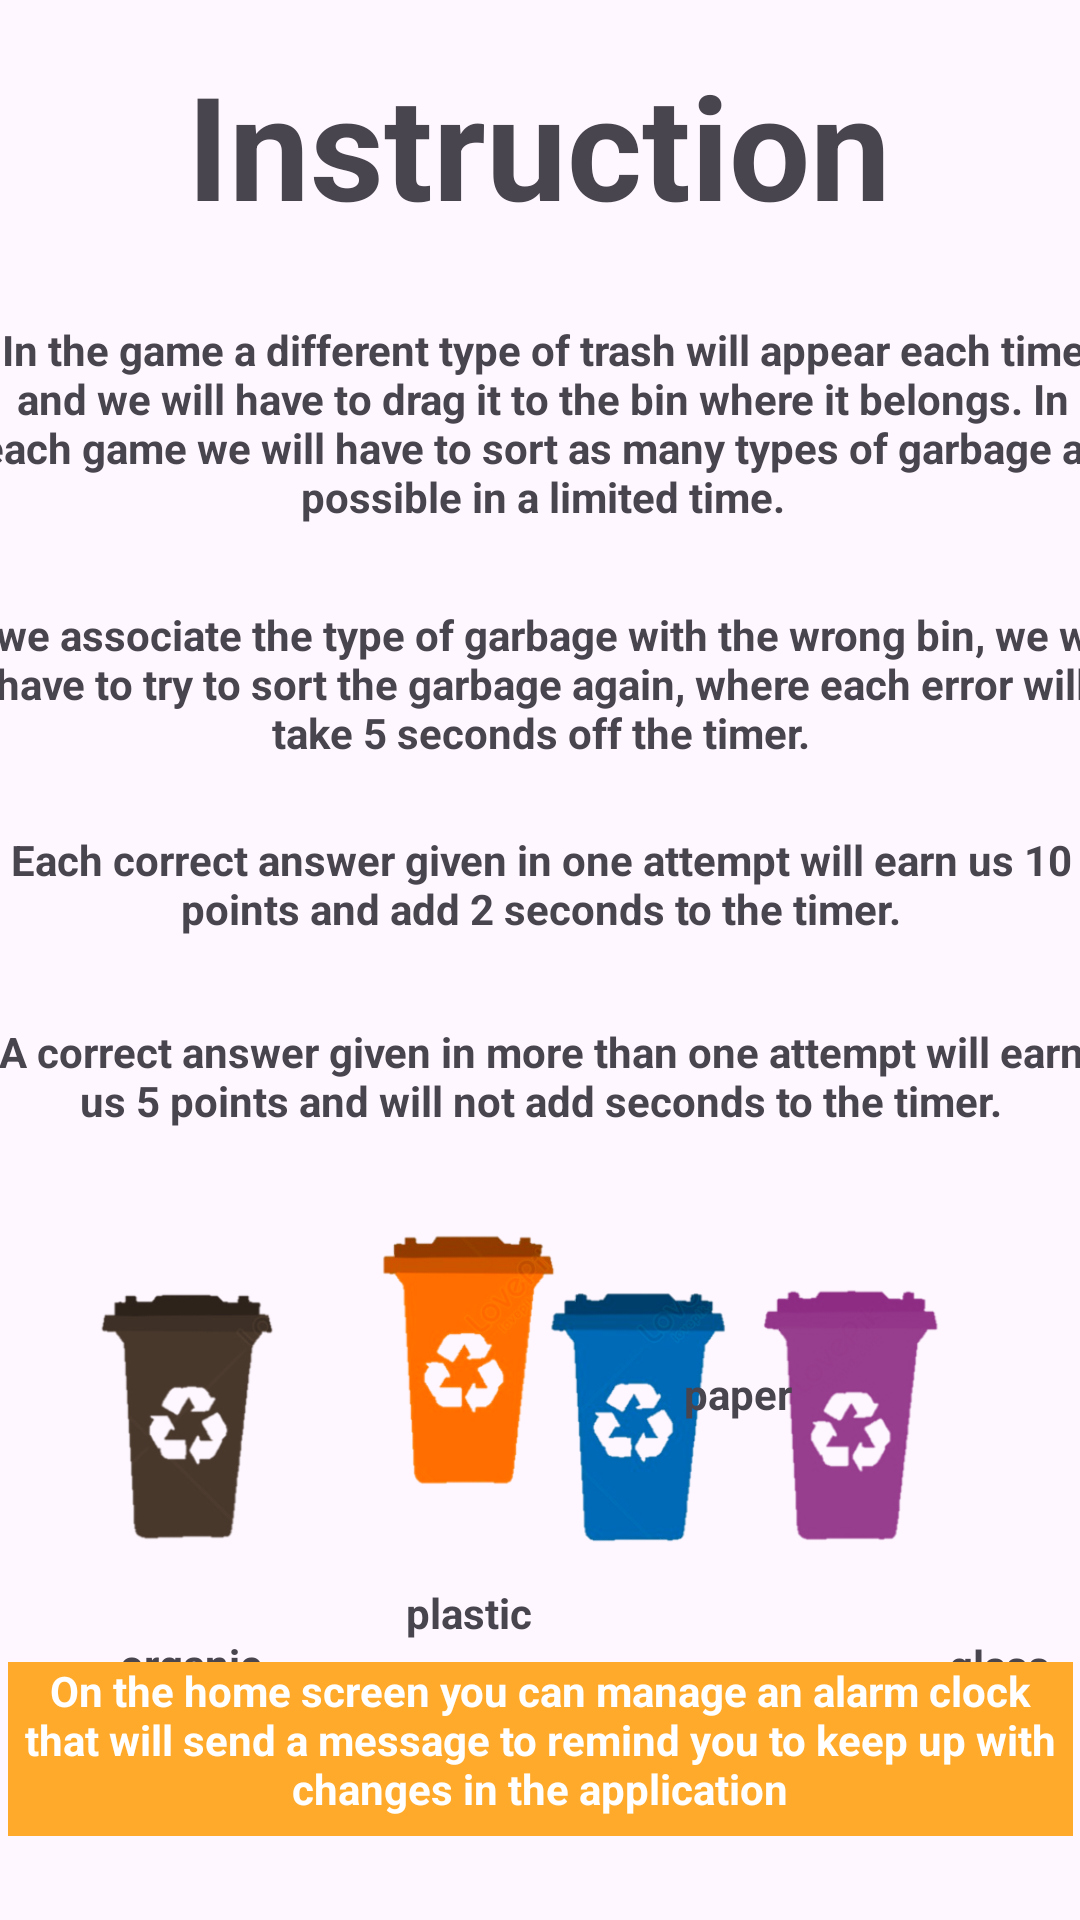

Named icons in this screenshot (1080x1920) and their bounding boxes, detection(x1, y1, x2, y2):
brownbin: detection(101, 1294, 273, 1539)
purplebin: detection(714, 1290, 938, 1540)
